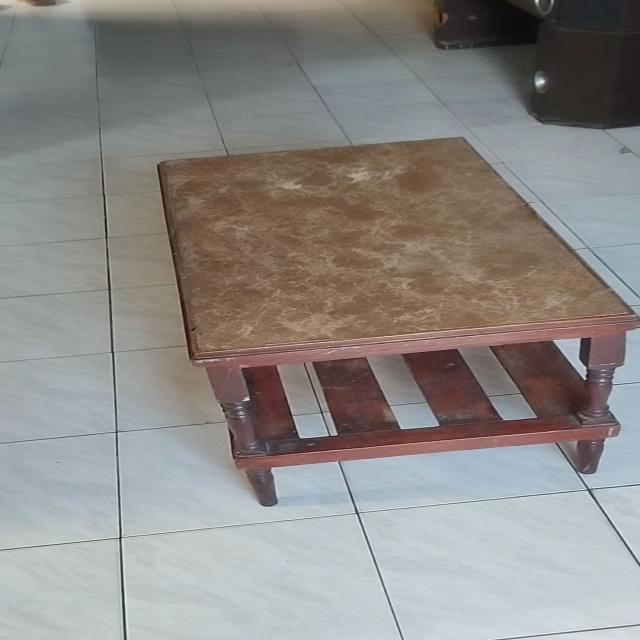table: (153, 132, 621, 504)
